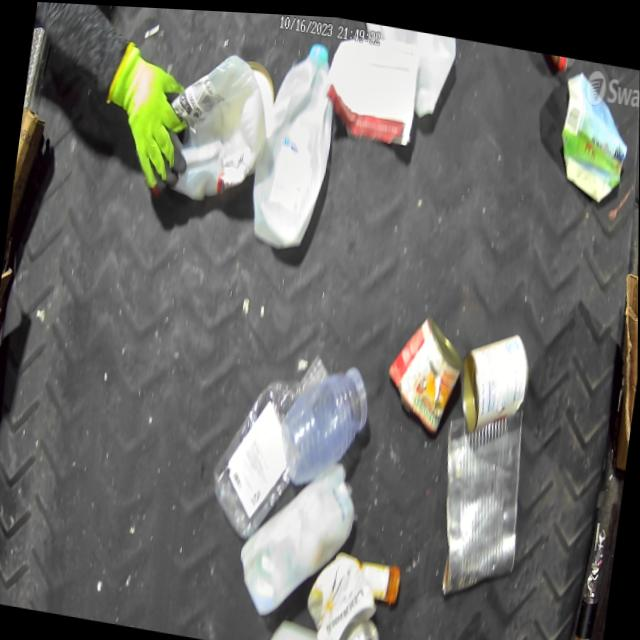can: (426, 386, 535, 605), (380, 302, 469, 436), (453, 318, 538, 436), (301, 537, 385, 640), (345, 610, 384, 640)
milk_jug: (231, 440, 364, 629), (244, 31, 344, 254), (158, 39, 276, 211), (353, 17, 458, 123)
plastic_bottle: (204, 335, 334, 547)
